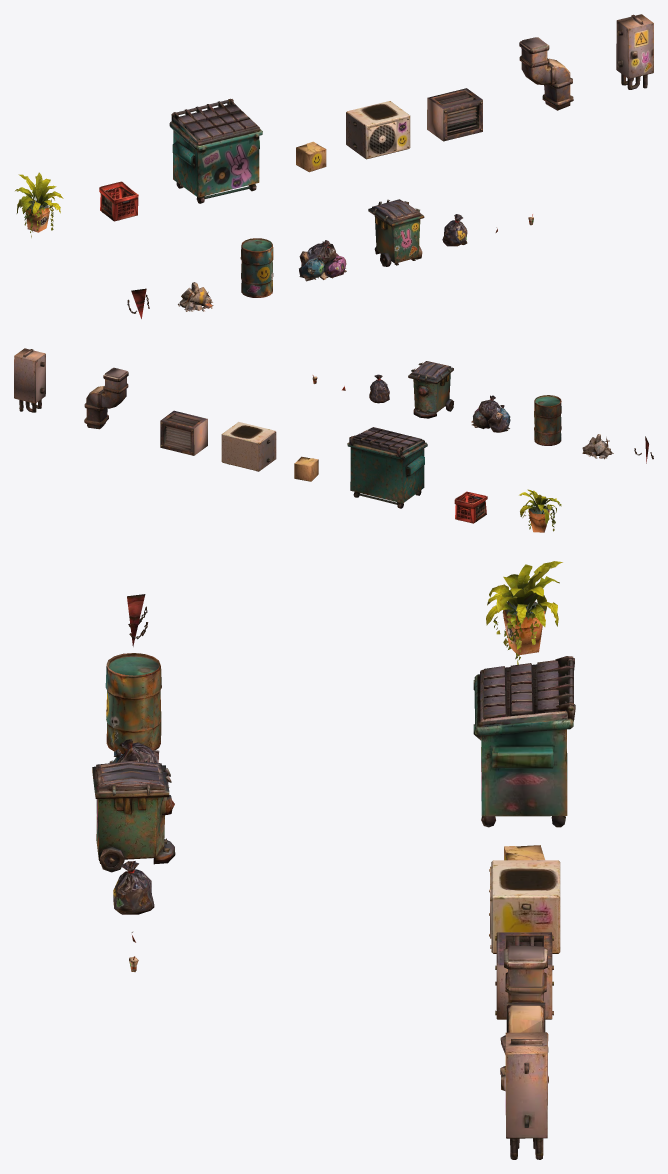
Rendered from props.glb.
The picture shows the model from 3 angles, top to bottom: view 1: azimuth 30°, elevation 25°; view 2: azimuth 150°, elevation 25°; view 3: azimuth 270°, elevation 25°; orthographic projection. The views are drawn at different scales.
Parts seen in each view (by area): view 1: dumpster, ac_unit, debris_trash_bin, electric_box, vent, duct_elbow, debris_barrel, planter, debris_bag_pile, crate, cardboard_box, debris_rubble (+1 smaller); view 2: dumpster, ac_unit, debris_trash_bin, electric_box, vent, duct_elbow, debris_barrel, planter, debris_bag_pile, crate, cardboard_box, debris_rubble (+1 smaller); view 3: dumpster, debris_trash_bin, ac_unit, debris_barrel, electric_box, planter, duct_elbow, vent, debris_trash_bag.
Boxes of the visible parts, x1,y1,x2,y2 form: dumpster: [169, 98, 262, 203]; ac_unit: [346, 101, 410, 159]; debris_trash_bin: [368, 199, 424, 266]; electric_box: [616, 14, 653, 89]; vent: [427, 88, 482, 141]; duct_elbow: [519, 37, 573, 110]; debris_barrel: [240, 238, 273, 297]; planter: [15, 172, 63, 237]; debris_bag_pile: [299, 240, 346, 281]; crate: [99, 181, 138, 221]; cardboard_box: [296, 141, 326, 172]; debris_rubble: [178, 282, 213, 311]; dumpster: [347, 427, 427, 508]; ac_unit: [221, 422, 276, 471]; debris_trash_bin: [408, 361, 453, 418]; electric_box: [14, 348, 45, 412]; vent: [160, 410, 207, 455]; duct_elbow: [84, 367, 128, 429]; debris_barrel: [534, 395, 561, 445]; planter: [519, 489, 561, 532]; debris_bag_pile: [471, 395, 510, 432]; crate: [454, 491, 487, 523]; cardboard_box: [294, 456, 318, 481]; debris_rubble: [582, 434, 613, 459]; dumpster: [473, 656, 575, 827]; debris_trash_bin: [92, 759, 175, 872]; ac_unit: [489, 860, 560, 953]; debris_barrel: [105, 653, 161, 753]; electric_box: [501, 1032, 548, 1159]; planter: [486, 561, 562, 664]; duct_elbow: [500, 945, 548, 1083]; vent: [495, 932, 553, 1019]; debris_trash_bag: [113, 861, 154, 914].
Size of the model in its own units: 12.8 by 1.42 by 4.95.
2 materials, 2 textured.
